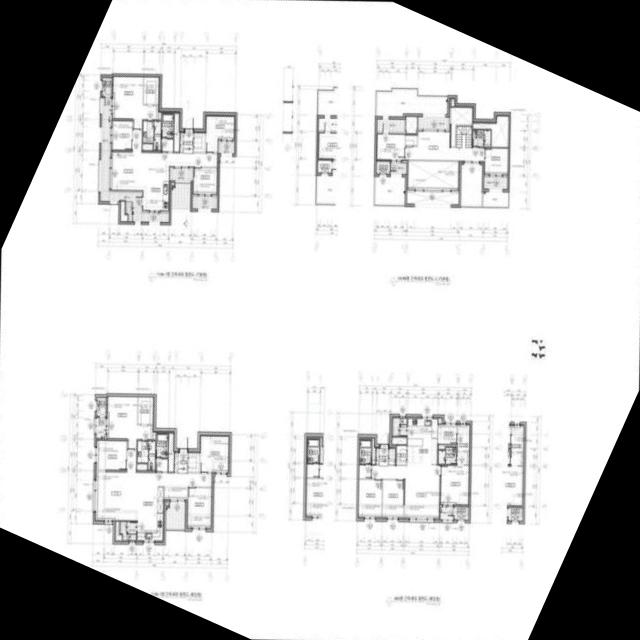background: (0, 0, 640, 640)
space_balconi: (100, 97, 169, 221), (377, 90, 447, 116), (375, 176, 405, 203), (171, 183, 190, 209), (166, 503, 185, 529), (377, 119, 405, 132), (418, 116, 448, 128), (484, 191, 507, 205), (120, 521, 136, 540), (192, 196, 217, 208), (484, 177, 507, 189), (392, 418, 407, 436), (172, 168, 191, 181), (390, 162, 406, 174), (96, 417, 105, 438), (219, 141, 234, 153), (440, 506, 453, 519)
space_bedroom: (113, 76, 158, 128), (107, 396, 152, 448), (441, 451, 469, 504), (206, 115, 235, 152), (200, 435, 229, 472), (187, 487, 212, 527), (358, 479, 382, 517), (96, 440, 126, 469), (382, 479, 403, 517), (377, 134, 405, 159), (193, 167, 217, 194), (485, 148, 508, 174), (112, 120, 132, 149)
space_dressroom: (143, 77, 159, 104), (138, 397, 154, 424), (457, 425, 469, 450)
space_front: (180, 130, 193, 153), (174, 452, 188, 473), (376, 448, 388, 465)
space_kitchen: (137, 486, 163, 540), (407, 418, 437, 464), (143, 167, 169, 210)
space_living_room: (96, 450, 212, 520), (110, 128, 218, 191), (372, 464, 439, 518), (405, 131, 484, 161)
space_other: (408, 160, 458, 189), (473, 116, 508, 147), (460, 164, 482, 205), (451, 107, 472, 146), (407, 192, 459, 204), (438, 424, 457, 443), (456, 125, 472, 147), (164, 486, 187, 499), (174, 113, 180, 151), (168, 433, 174, 471), (194, 132, 205, 151), (188, 453, 199, 471), (396, 445, 406, 464), (406, 116, 417, 133), (359, 465, 371, 478), (161, 139, 173, 151), (115, 521, 122, 541), (120, 201, 127, 221), (156, 459, 167, 471), (406, 135, 417, 145), (392, 437, 406, 444), (389, 448, 395, 464), (439, 444, 456, 449), (372, 438, 375, 464), (142, 144, 152, 150), (451, 99, 454, 106), (153, 431, 155, 439), (159, 111, 161, 119), (438, 418, 441, 423), (166, 501, 168, 505), (172, 182, 174, 185)
space_outdoor_room: (454, 506, 469, 519), (102, 77, 112, 96), (96, 397, 106, 416), (376, 161, 389, 173)
space_toilet: (137, 440, 155, 470), (143, 121, 161, 150), (156, 433, 168, 457), (438, 447, 456, 463), (473, 130, 490, 146), (162, 113, 173, 137), (360, 440, 371, 463)
